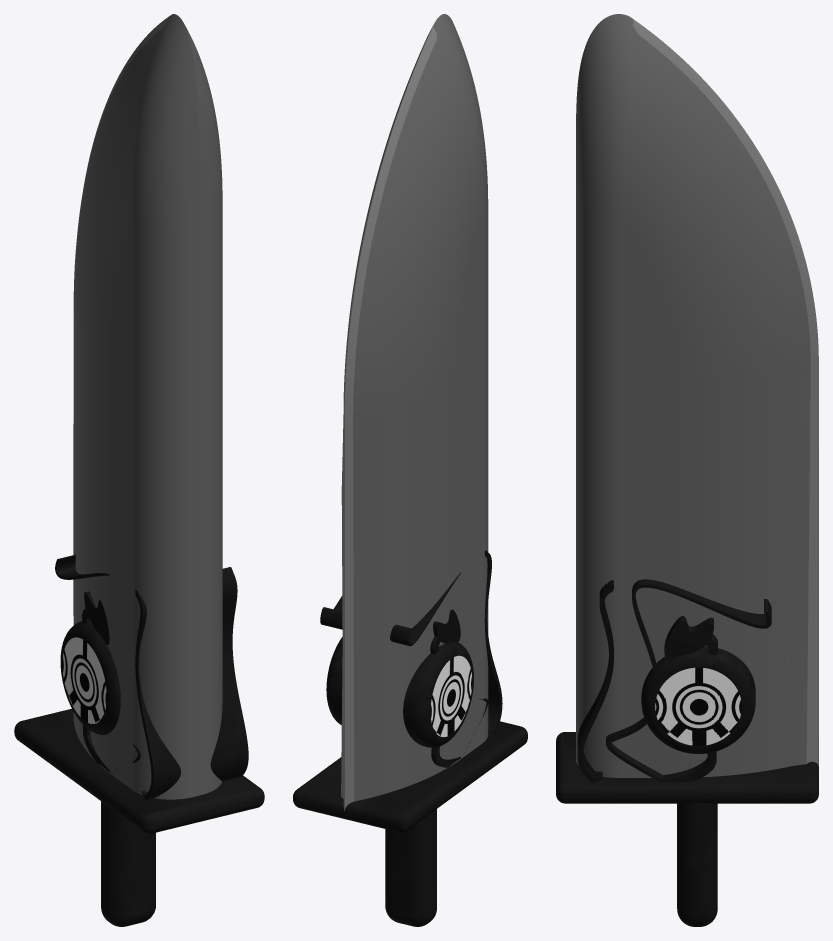
The model's file is zweihander.obj.
The picture shows the model from 3 angles, left to right: view 1: azimuth 30°, elevation 25°; view 2: azimuth 150°, elevation 25°; view 3: azimuth 270°, elevation 25°; orthographic projection. The views are drawn at different scales.
Parts seen in each view (by area): view 1: zweihander.001_zweihander.002; view 2: zweihander.001_zweihander.002; view 3: zweihander.001_zweihander.002.
Part boxes in pixels (bbox=[...]): zweihander.001_zweihander.002: bbox=[14, 14, 264, 926]; zweihander.001_zweihander.002: bbox=[293, 14, 527, 926]; zweihander.001_zweihander.002: bbox=[556, 14, 818, 926].
Size of the model in its own units: 0.7426 by 5.42 by 1.41.
